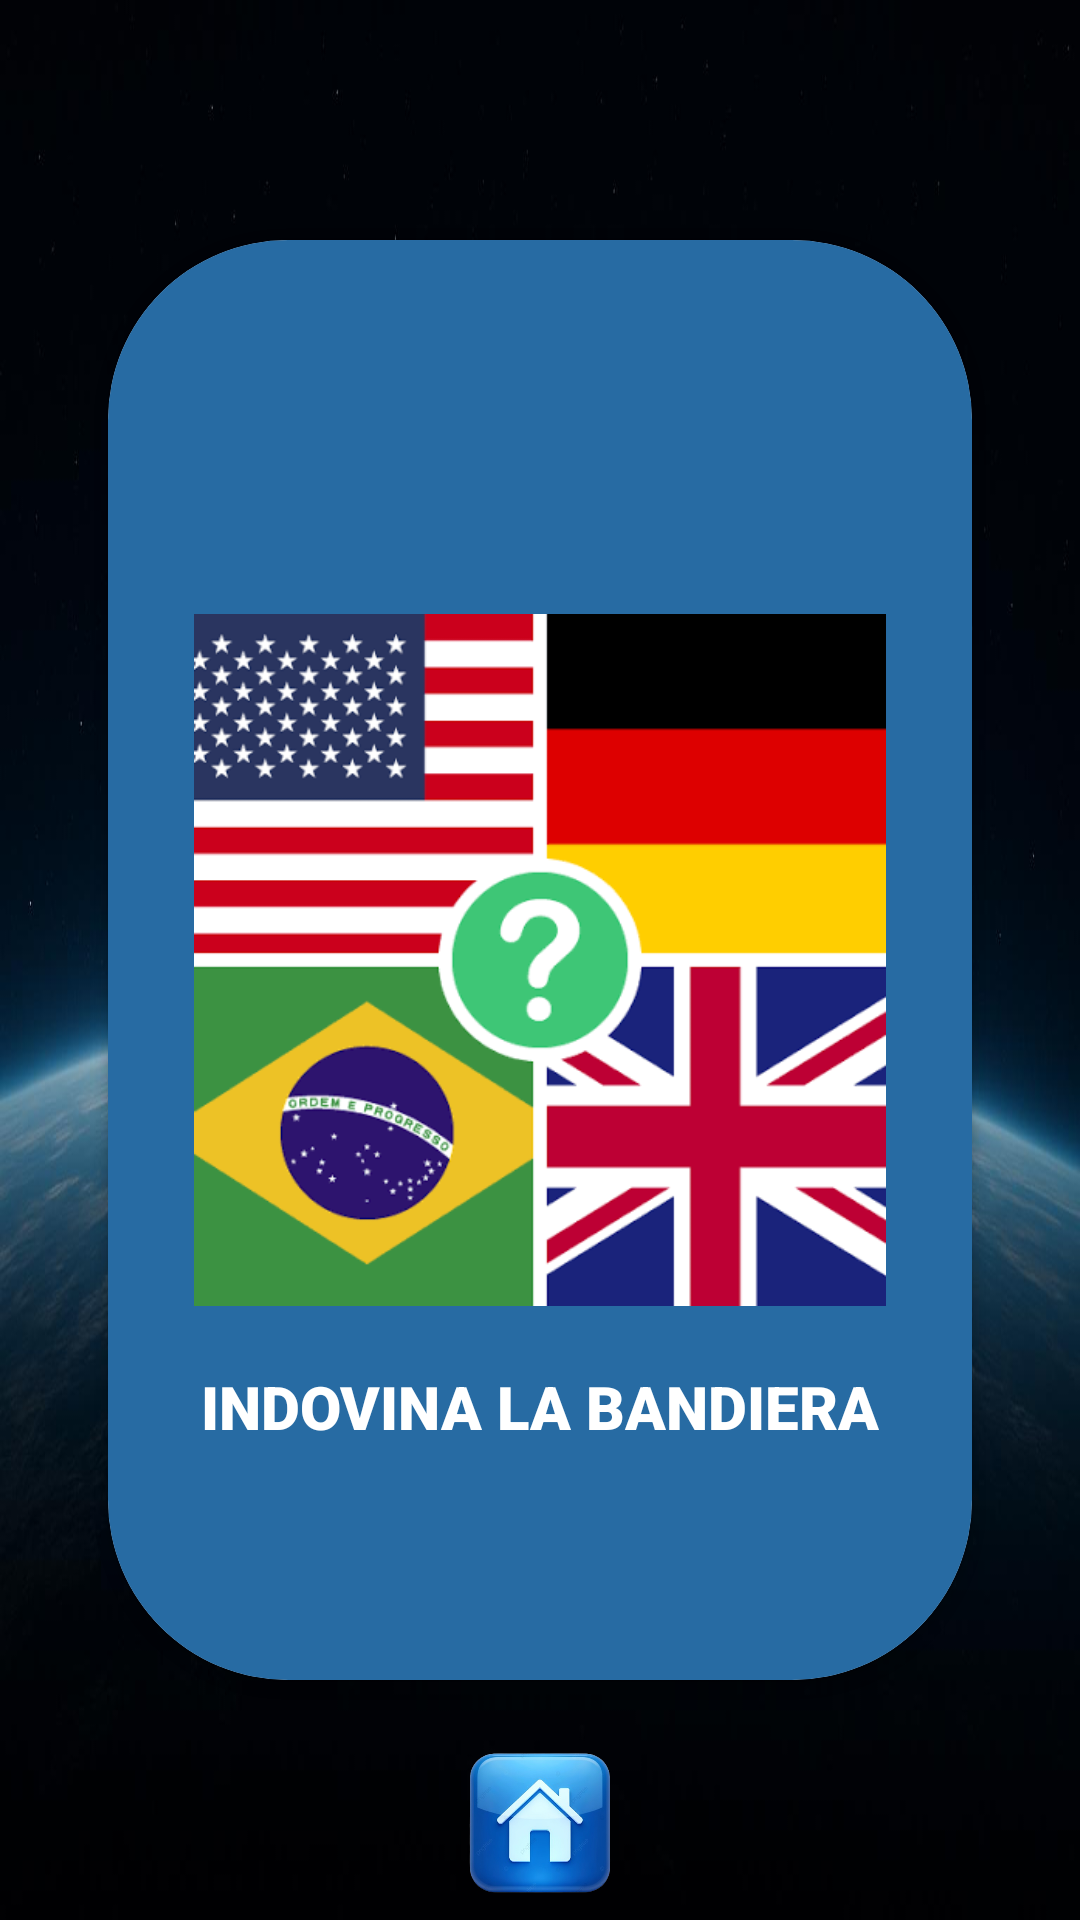

Icons on this 1080px×1920px Android screen, each with its box as (x1, y1, x2, y2):
immagine home: (470, 1753, 610, 1893)
